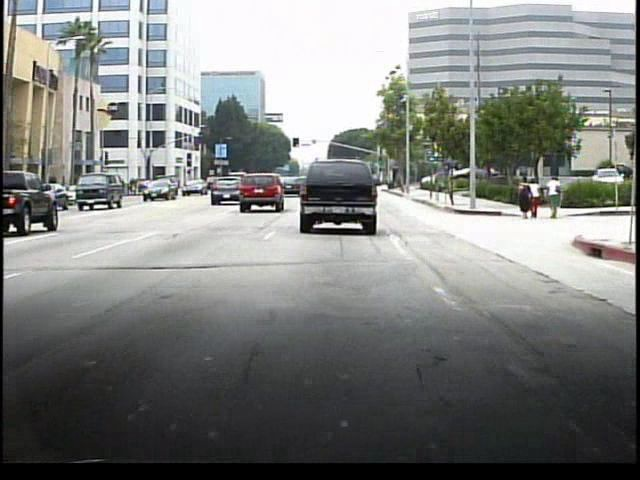person: (544, 175, 563, 221), (515, 175, 530, 221), (529, 180, 542, 222)
